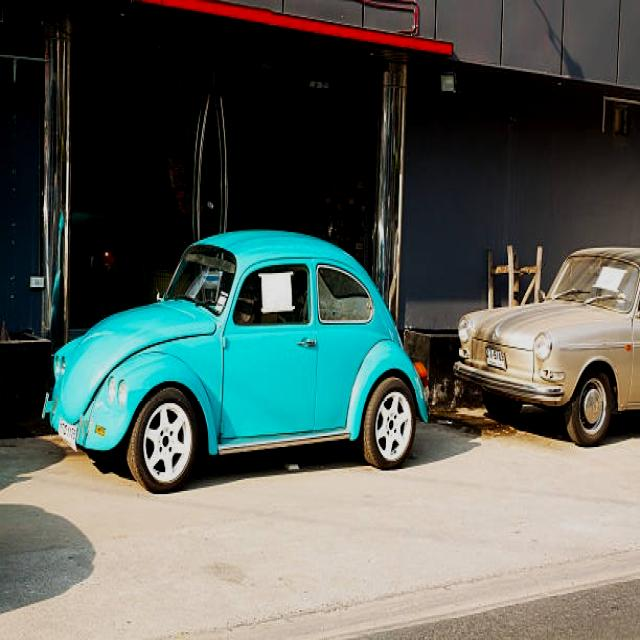car: (44, 233, 429, 477), (459, 249, 640, 444)
